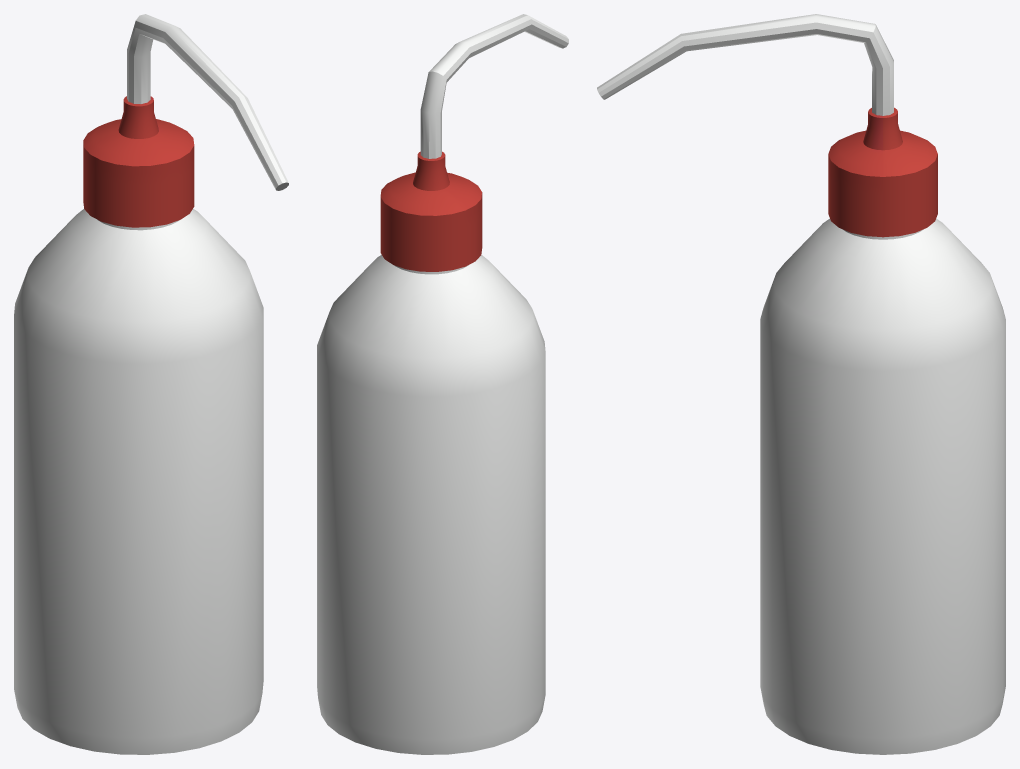
File: wash-bottle.fbx
3 views of the same model, side by side, from view 1: azimuth 30°, elevation 25°; view 2: azimuth 150°, elevation 25°; view 3: azimuth 270°, elevation 25° (orthographic). The views are drawn at different scales.
Visible parts, largest first — view 1: wash_bottle_mesh; view 2: wash_bottle_mesh; view 3: wash_bottle_mesh.
Boxes of the visible parts, x1=… form: wash_bottle_mesh: x1=14, y1=14, x2=288, y2=754; wash_bottle_mesh: x1=317, y1=14, x2=568, y2=754; wash_bottle_mesh: x1=597, y1=14, x2=1005, y2=754.
Size of the model in its own units: 7.4 by 23.1 by 12.32.
Materials: 3 (1 with a texture image).
